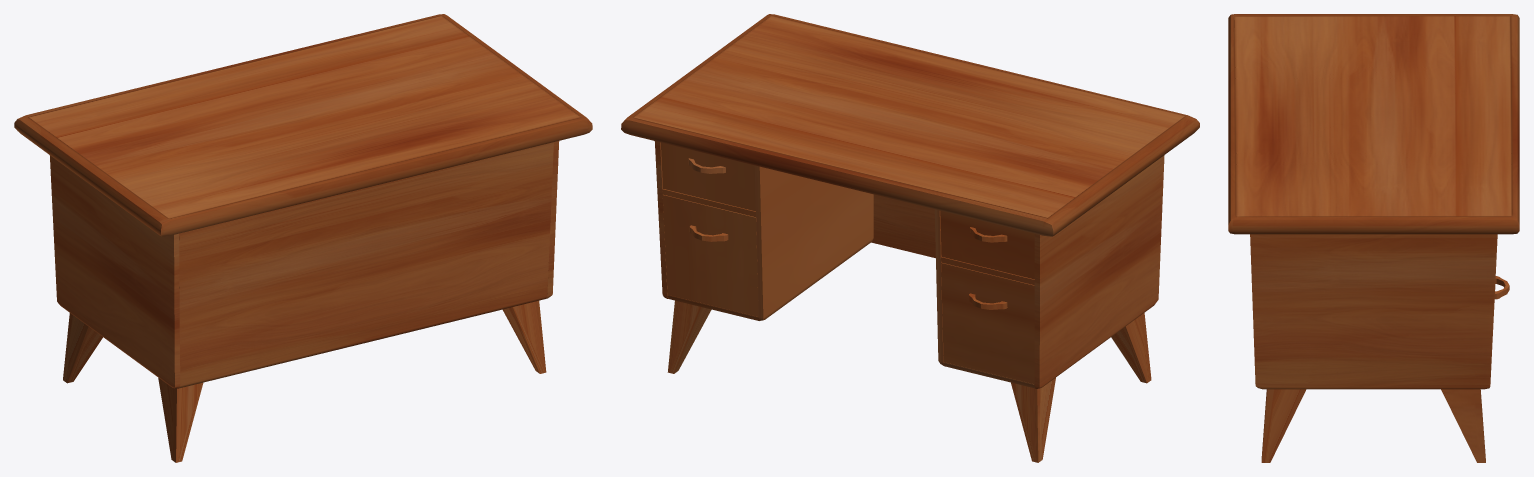
File: desk.fbx
3 views of the same model, side by side, from view 1: azimuth 30°, elevation 25°; view 2: azimuth 150°, elevation 25°; view 3: azimuth 270°, elevation 25° (orthographic).
Visible parts, largest first — view 1: desktop, back_pannel, right_panel, leg_back_right, leg_back_left, leg_front_right, left_panel; view 2: desktop, right_panel, inside_panel_left, right_lower_drawer, left_lower_drawer, right_upper_drawer, left_upper_drawer, back_pannel, leg_front_right, leg_front_left, leg_back_right, left_panel (+3 smaller); view 3: desktop, left_panel, leg_back_left, leg_front_left.
Boxes of the visible parts, x1,y1,x2,y2 form: desktop: (14, 14, 592, 236); back_pannel: (179, 142, 553, 388); right_panel: (49, 155, 180, 388); leg_back_right: (158, 378, 203, 462); leg_back_left: (502, 300, 546, 373); leg_front_right: (63, 313, 102, 383); left_panel: (546, 141, 559, 298); desktop: (621, 14, 1199, 236); right_panel: (1034, 155, 1164, 388); inside_panel_left: (754, 165, 873, 320); right_lower_drawer: (941, 262, 1034, 384); left_lower_drawer: (662, 194, 758, 316); right_upper_drawer: (940, 210, 1034, 279); left_upper_drawer: (660, 142, 755, 211); back_pannel: (871, 194, 935, 258); leg_front_right: (1011, 377, 1055, 462); leg_front_left: (667, 300, 711, 373); leg_back_right: (1111, 313, 1151, 383); left_panel: (654, 141, 668, 298); desktop: (1228, 14, 1519, 234); left_panel: (1250, 234, 1497, 389); leg_back_left: (1261, 389, 1306, 462); leg_front_left: (1441, 389, 1485, 462).
Size of the model in its own units: 95.98 by 55.03 by 56.45.
